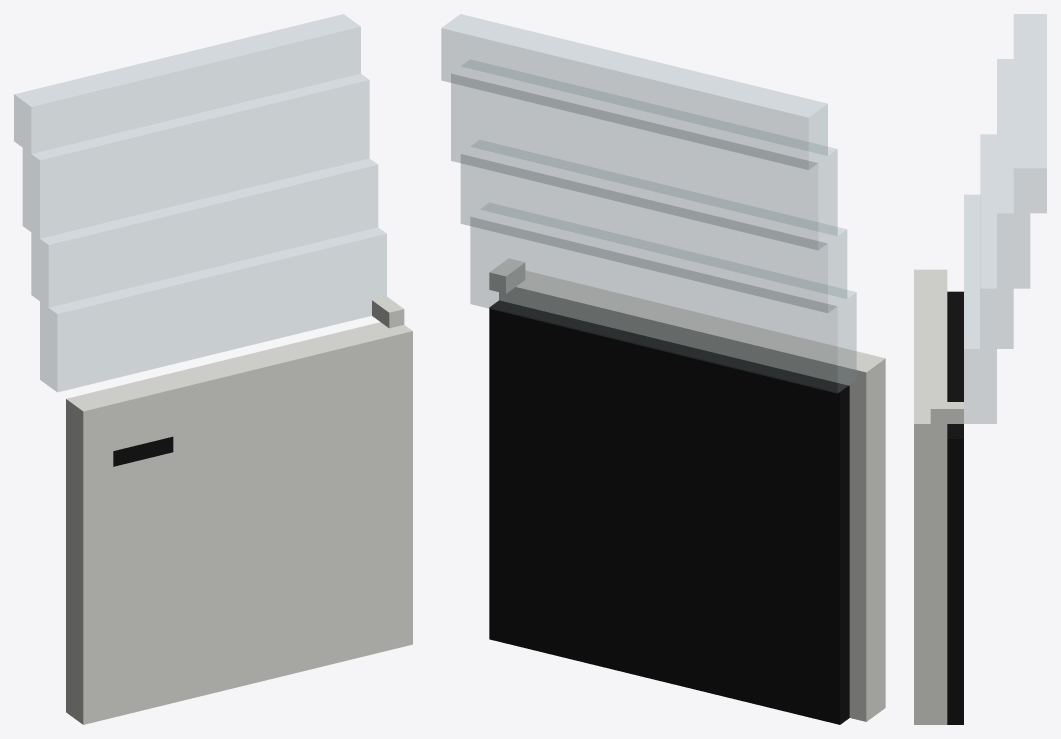
Rendered from crew_pickup_rear_door.glb.
3 renders of one model, left to right at view 1: azimuth 30°, elevation 25°; view 2: azimuth 150°, elevation 25°; view 3: azimuth 270°, elevation 25°, orthographic. The views are drawn at different scales.
Visible parts, largest first — view 1: body:compound; view 2: body:compound; view 3: body:compound.
Part boxes in pixels (box(x1,y1,x2,y2)): body:compound: box(14, 14, 412, 724); body:compound: box(441, 14, 885, 724); body:compound: box(914, 14, 1046, 724).
Size of the model in its own units: 0.6875 by 1.16 by 0.25.
